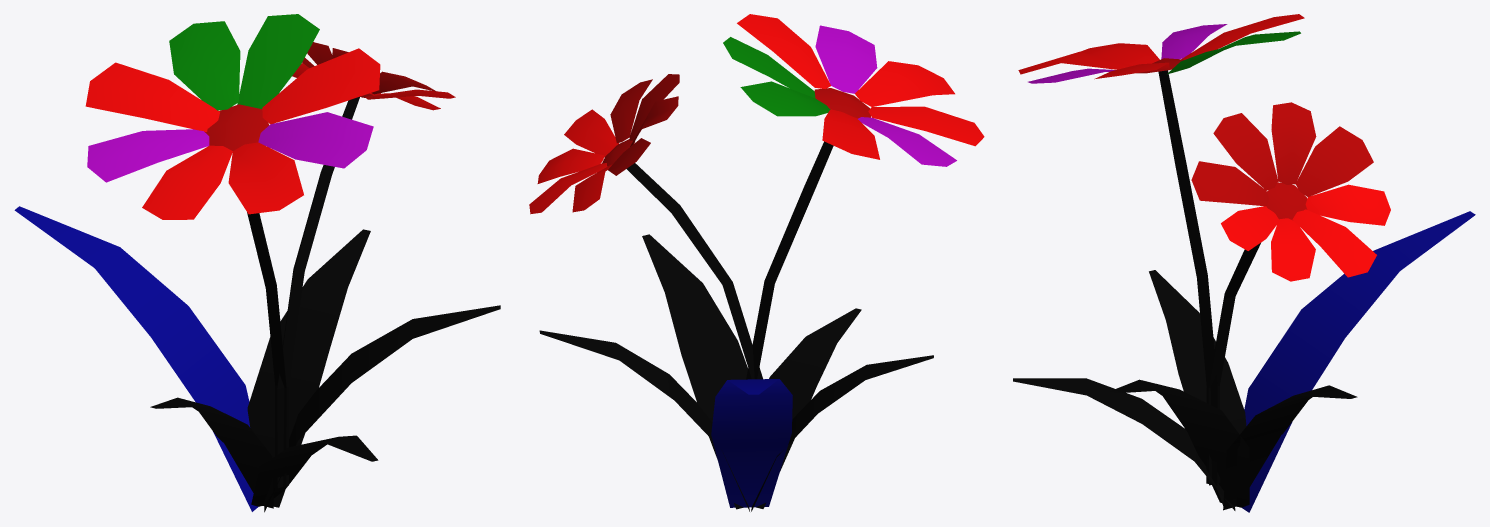
The model's file is flower_01.glb.
The picture shows the model from 3 angles, left to right: view 1: azimuth 30°, elevation 25°; view 2: azimuth 150°, elevation 25°; view 3: azimuth 270°, elevation 25°; orthographic projection. The views are drawn at different scales.
Visible parts, largest first — view 1: Flower_Petals, Flower_Leaves, Flower_Stem; view 2: Flower_Petals, Flower_Leaves, Flower_Stem; view 3: Flower_Petals, Flower_Leaves, Flower_Stem.
Boxes of the visible parts, <box> form: Flower_Petals: <box>85,14,455,219</box>; Flower_Leaves: <box>14,206,500,512</box>; Flower_Stem: <box>247,96,359,488</box>; Flower_Petals: <box>529,14,984,214</box>; Flower_Leaves: <box>539,234,933,511</box>; Flower_Stem: <box>627,141,833,379</box>; Flower_Petals: <box>1018,14,1390,281</box>; Flower_Leaves: <box>1013,211,1475,512</box>; Flower_Stem: <box>1158,70,1260,485</box>.
Size of the model in its own units: 0.9841 by 1.17 by 1.03.
